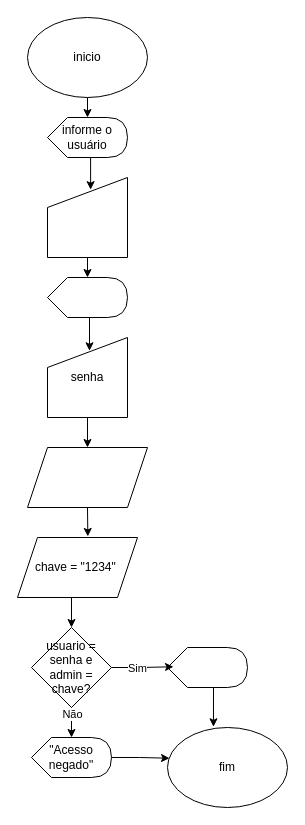
Some shapes in this 305 by 825 pixel diagram are drawn without their labels. Here are the shapes that lost their labels. From the top down, the box of each, then its label:
(46, 176, 128, 258): usuario
(46, 276, 128, 318): informe o senha
(26, 446, 148, 508): admin = "admin"
(166, 646, 248, 688): "Acesso permitido"
